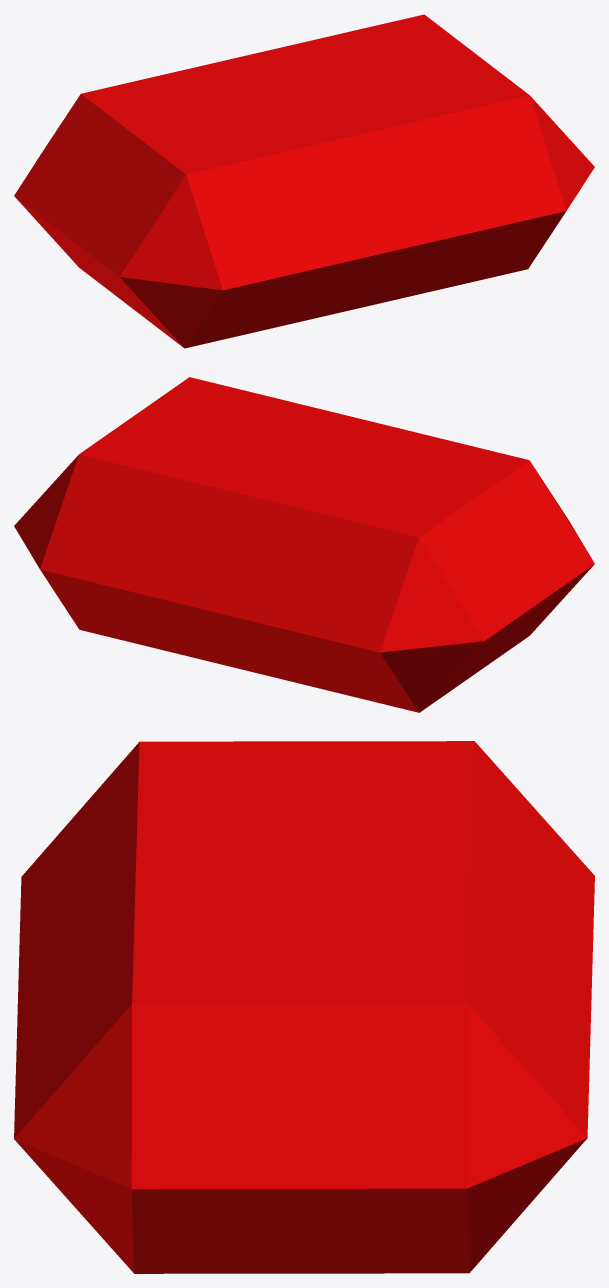
File: target_Cube_1_v001.fbx
The picture shows the model from 3 angles, top to bottom: view 1: azimuth 30°, elevation 25°; view 2: azimuth 150°, elevation 25°; view 3: azimuth 270°, elevation 25°; orthographic projection. The views are drawn at different scales.
Parts seen in each view (by area): view 1: gem_3; view 2: gem_3; view 3: gem_3.
Part boxes in pixels (x1,y1,x2,y2): gem_3: (14, 14, 594, 348); gem_3: (14, 377, 594, 712); gem_3: (14, 741, 594, 1273).
Size of the model in its own units: 95.87 by 34.32 by 65.39.
